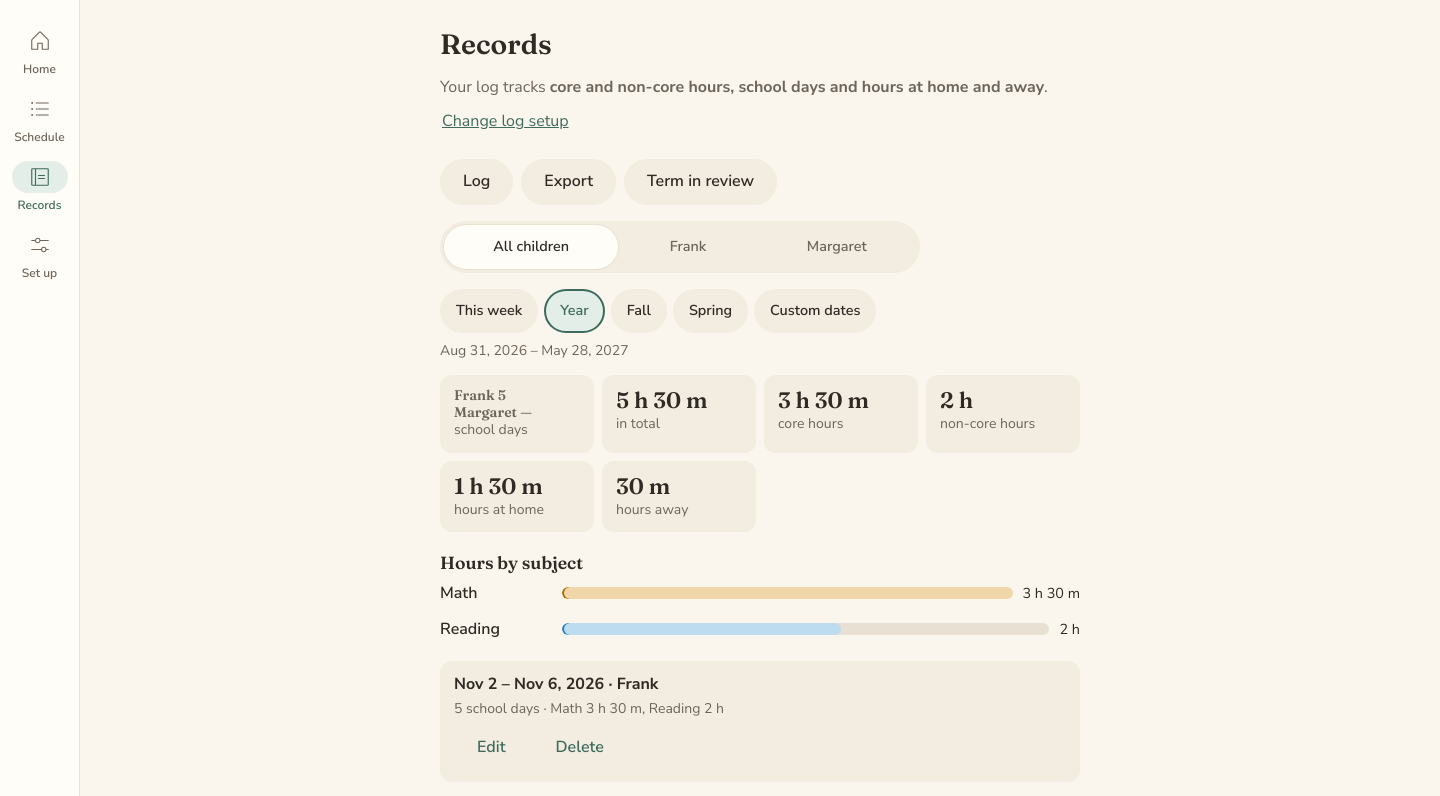
Test: Records with entries › custom dates take two DateFields and ask for exactly those
Expected: the element named "Totals" is shown, [440,375,1080,532]
Click the button "Custom dates" at (815, 311), box [754,289,876,333]
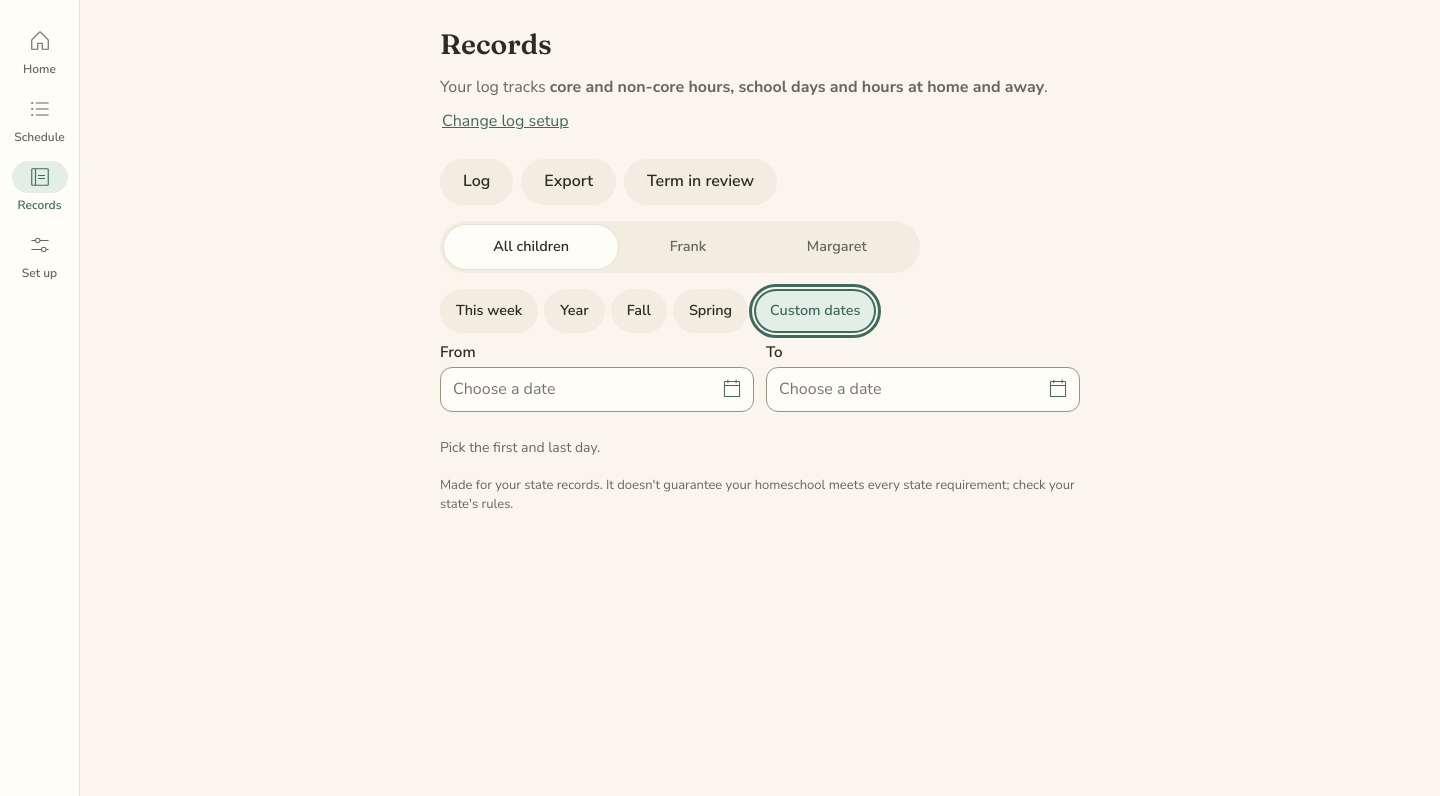
Now the text "Pick the first and last day." is shown, box [440,438,600,457]
Type "2026-11-02" into the field labelled "From" at (597, 389), box [440,367,754,412]
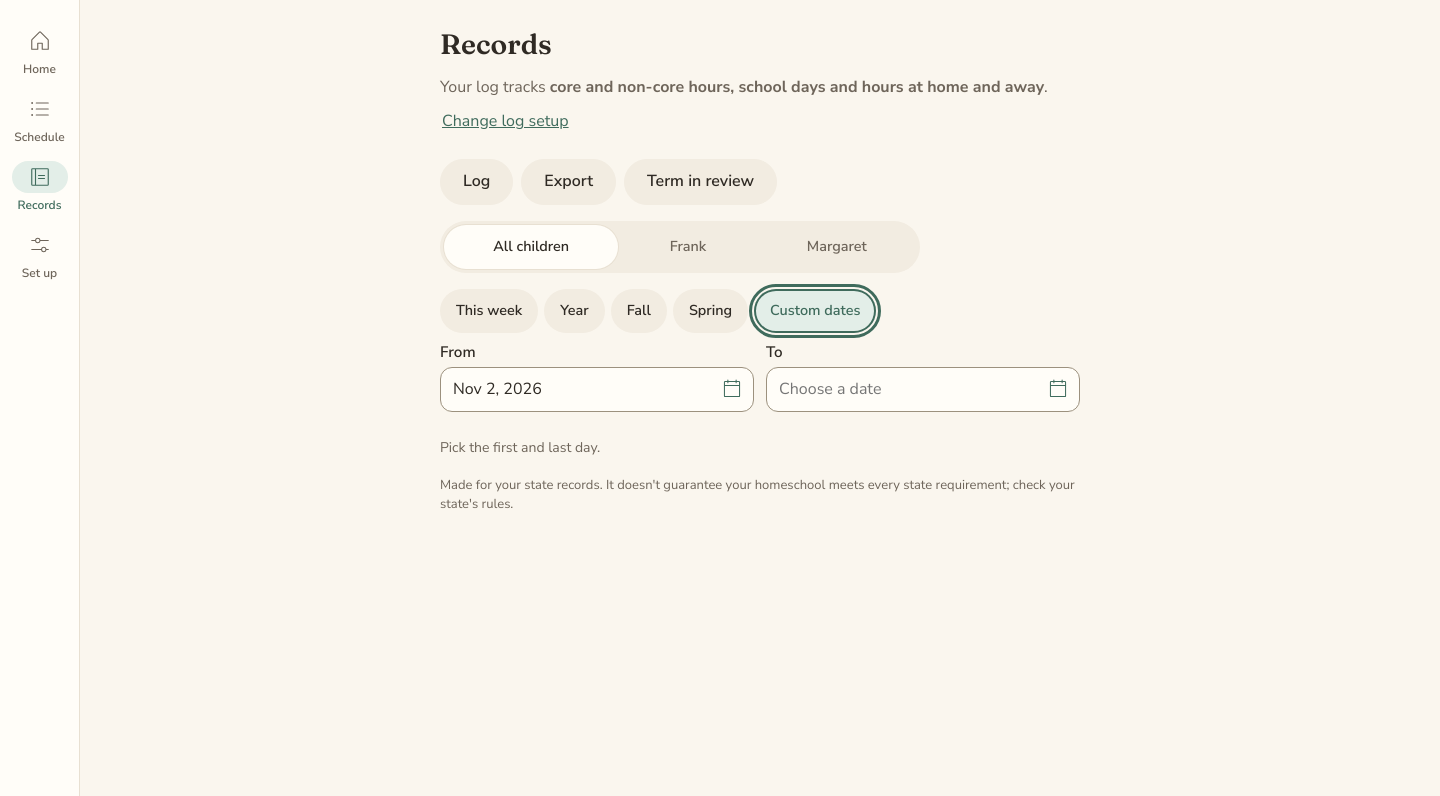
Type "2026-11-13" into the field labelled "To" at (923, 389), box [766,367,1080,412]
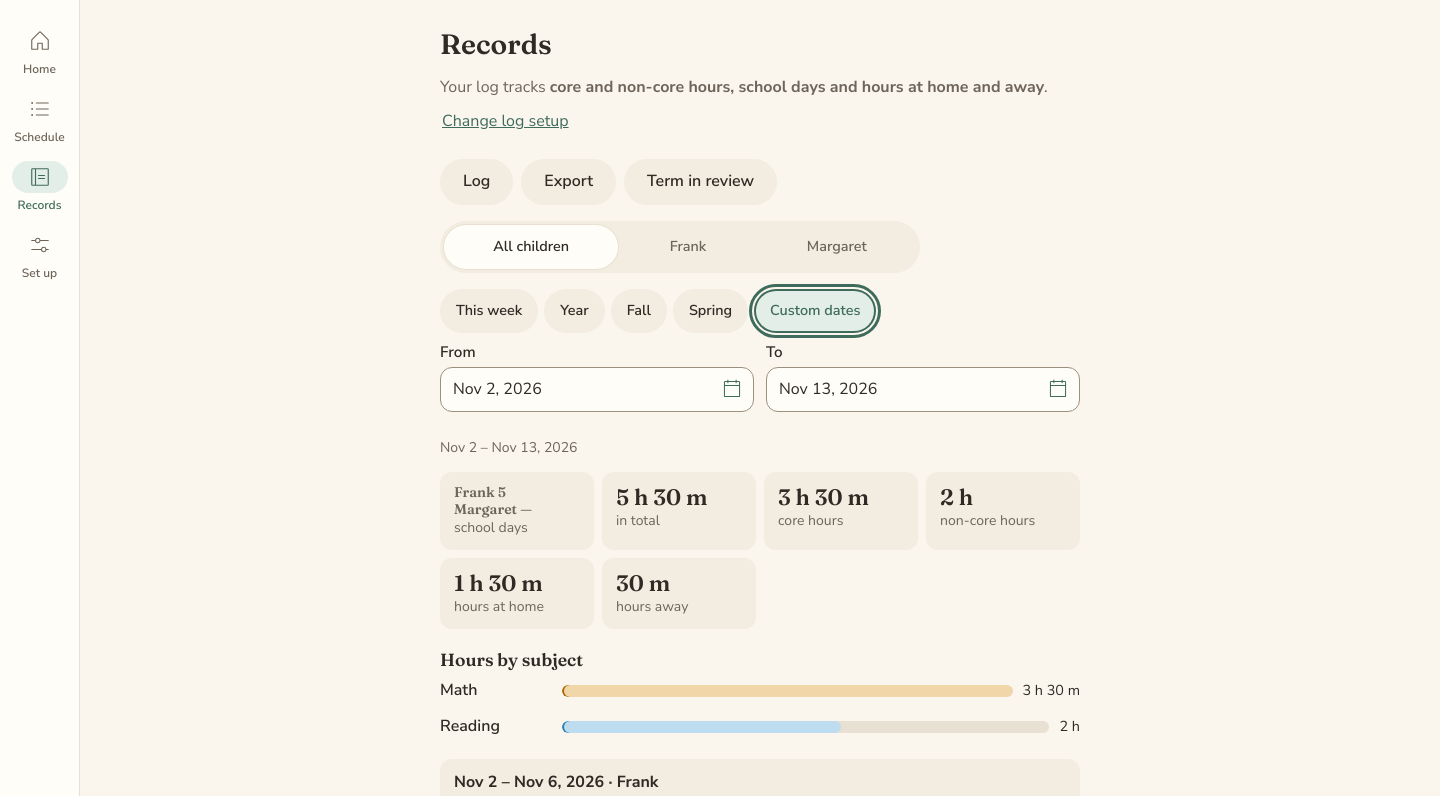
Now the text "Nov 2 – Nov 13, 2026" is shown, box [440,438,578,457]
